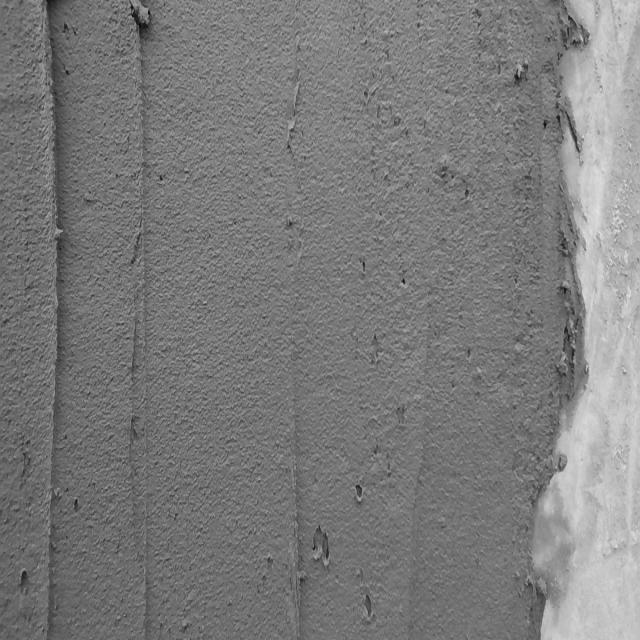trowels marks: (34, 3, 65, 640), (123, 41, 154, 640), (291, 402, 304, 640)
